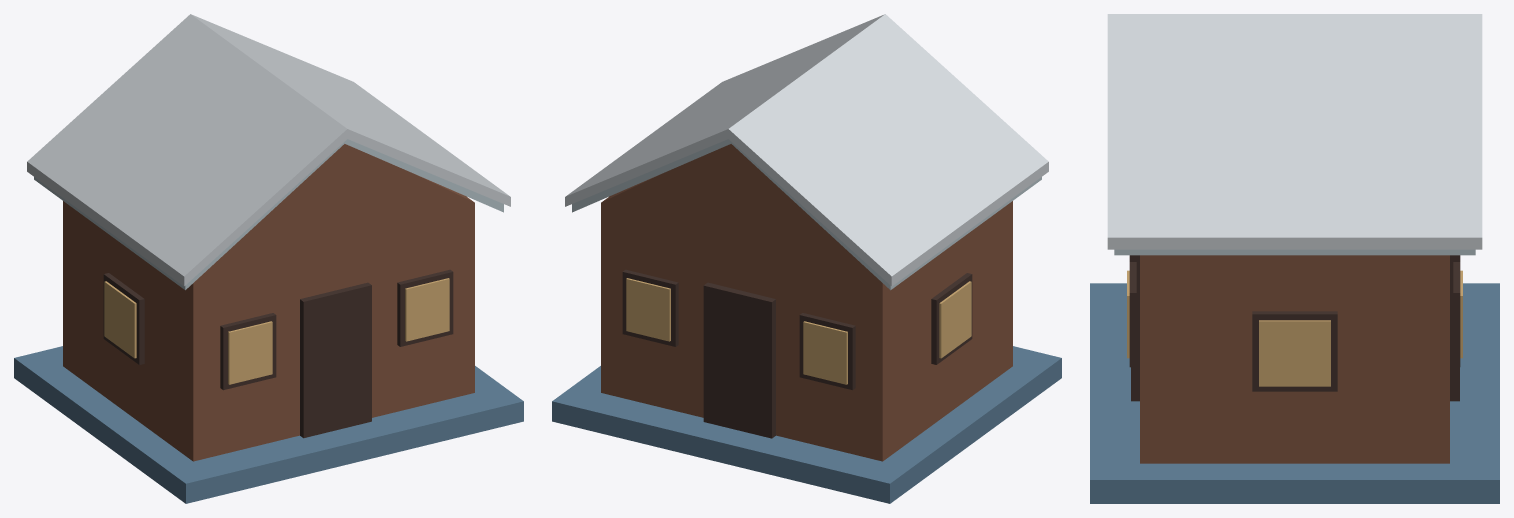
Rendered from Frosty_Cabin_Simple.glb.
3 views of the same model, side by side, from view 1: azimuth 30°, elevation 25°; view 2: azimuth 150°, elevation 25°; view 3: azimuth 270°, elevation 25° (orthographic). The views are drawn at different scales.
Visible parts, largest first — view 1: Frosty_Cabin_Simple; view 2: Frosty_Cabin_Simple; view 3: Frosty_Cabin_Simple.
Part boxes in pixels (x1,y1,x2,y2): Frosty_Cabin_Simple: (14, 14, 523, 503); Frosty_Cabin_Simple: (552, 14, 1061, 503); Frosty_Cabin_Simple: (1090, 14, 1499, 503).
Size of the model in its own units: 4.2 by 3.9 by 3.7.
